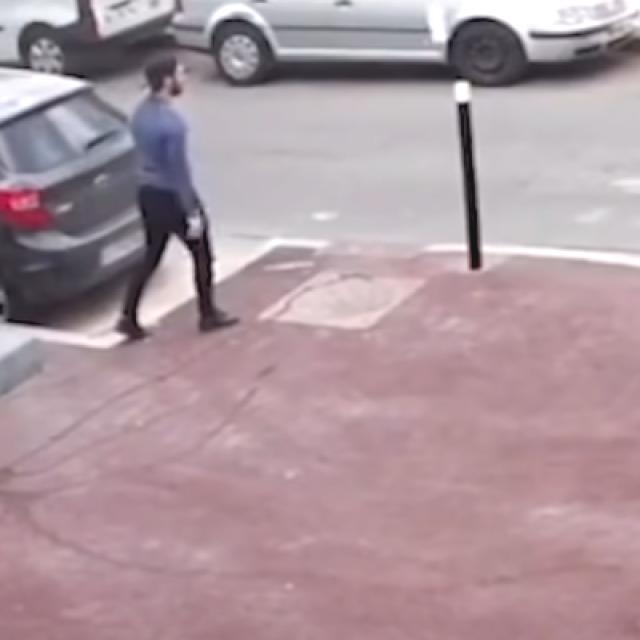Car: (0, 62, 161, 342), (159, 0, 640, 86), (0, 0, 198, 77)
